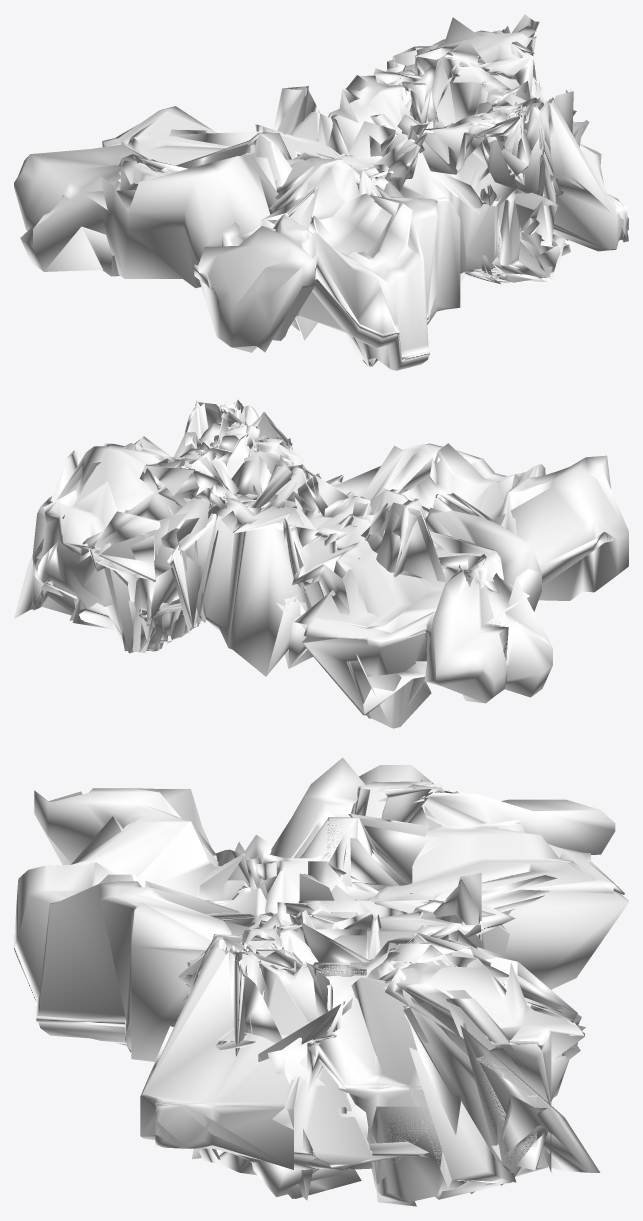
Rendered from 雲一版.fbx.
3 renders of one model, top to bottom at view 1: azimuth 30°, elevation 25°; view 2: azimuth 150°, elevation 25°; view 3: azimuth 270°, elevation 25°, orthographic. The views are drawn at different scales.
Parts seen in each view (by area): view 1: 平面; view 2: 平面; view 3: 平面.
Boxes of the visible parts, x1,y1,x2,y2 form: 平面: [14, 14, 628, 370]; 平面: [14, 400, 628, 728]; 平面: [14, 757, 628, 1206].
Bounding box in the file's own units: 259 × 213 × 98.6.
Materials: 1 (1 with a texture image).
